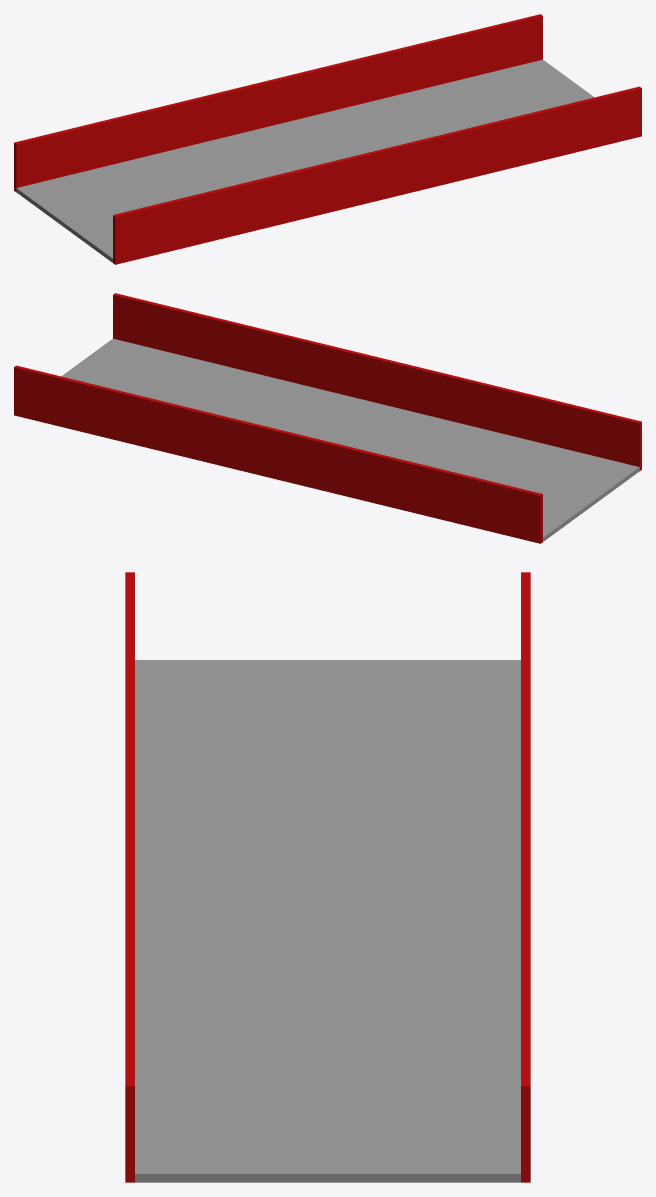
The model's file is straight.obj.
3 views of the same model, one above another, from view 1: azimuth 30°, elevation 25°; view 2: azimuth 150°, elevation 25°; view 3: azimuth 270°, elevation 25° (orthographic). The views are drawn at different scales.
Size of the model in its own units: 126 by 11 by 42.
Materials: 1 (1 with a texture image).
